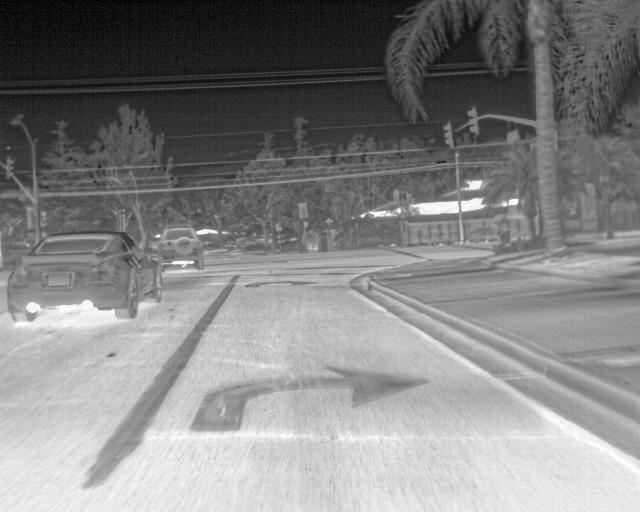car: (7, 231, 162, 321), (155, 227, 204, 270), (274, 234, 301, 251), (241, 240, 263, 251)
light: (468, 110, 475, 132), (444, 126, 452, 144), (40, 211, 47, 227), (8, 159, 14, 177), (393, 190, 399, 204)
sign: (507, 129, 519, 143), (298, 203, 307, 218), (253, 233, 256, 237)
